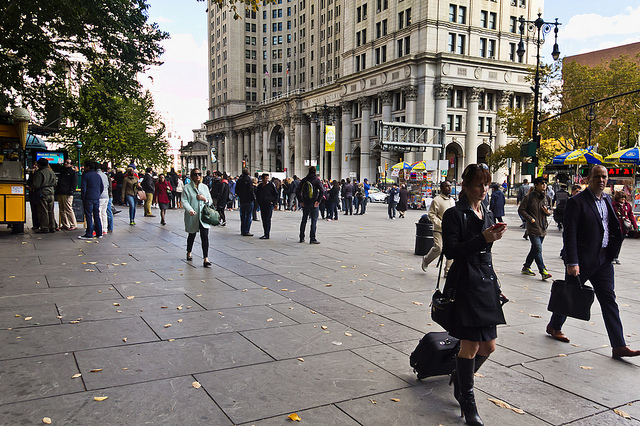person: (408, 153, 509, 426), (543, 162, 640, 365), (176, 165, 221, 271), (419, 174, 461, 278), (518, 173, 554, 281), (24, 156, 60, 235), (606, 185, 638, 267), (295, 164, 325, 246), (77, 158, 105, 240), (253, 171, 279, 241), (58, 153, 80, 232), (235, 167, 257, 239), (153, 169, 174, 226), (121, 167, 139, 227), (489, 181, 507, 234), (141, 166, 156, 221), (385, 181, 398, 221), (360, 174, 372, 216), (397, 183, 410, 221)
